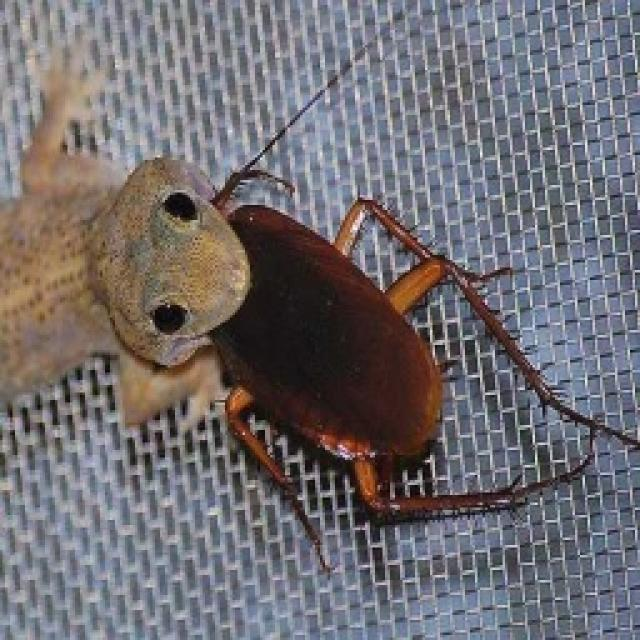cockroach: (142, 158, 574, 560)
